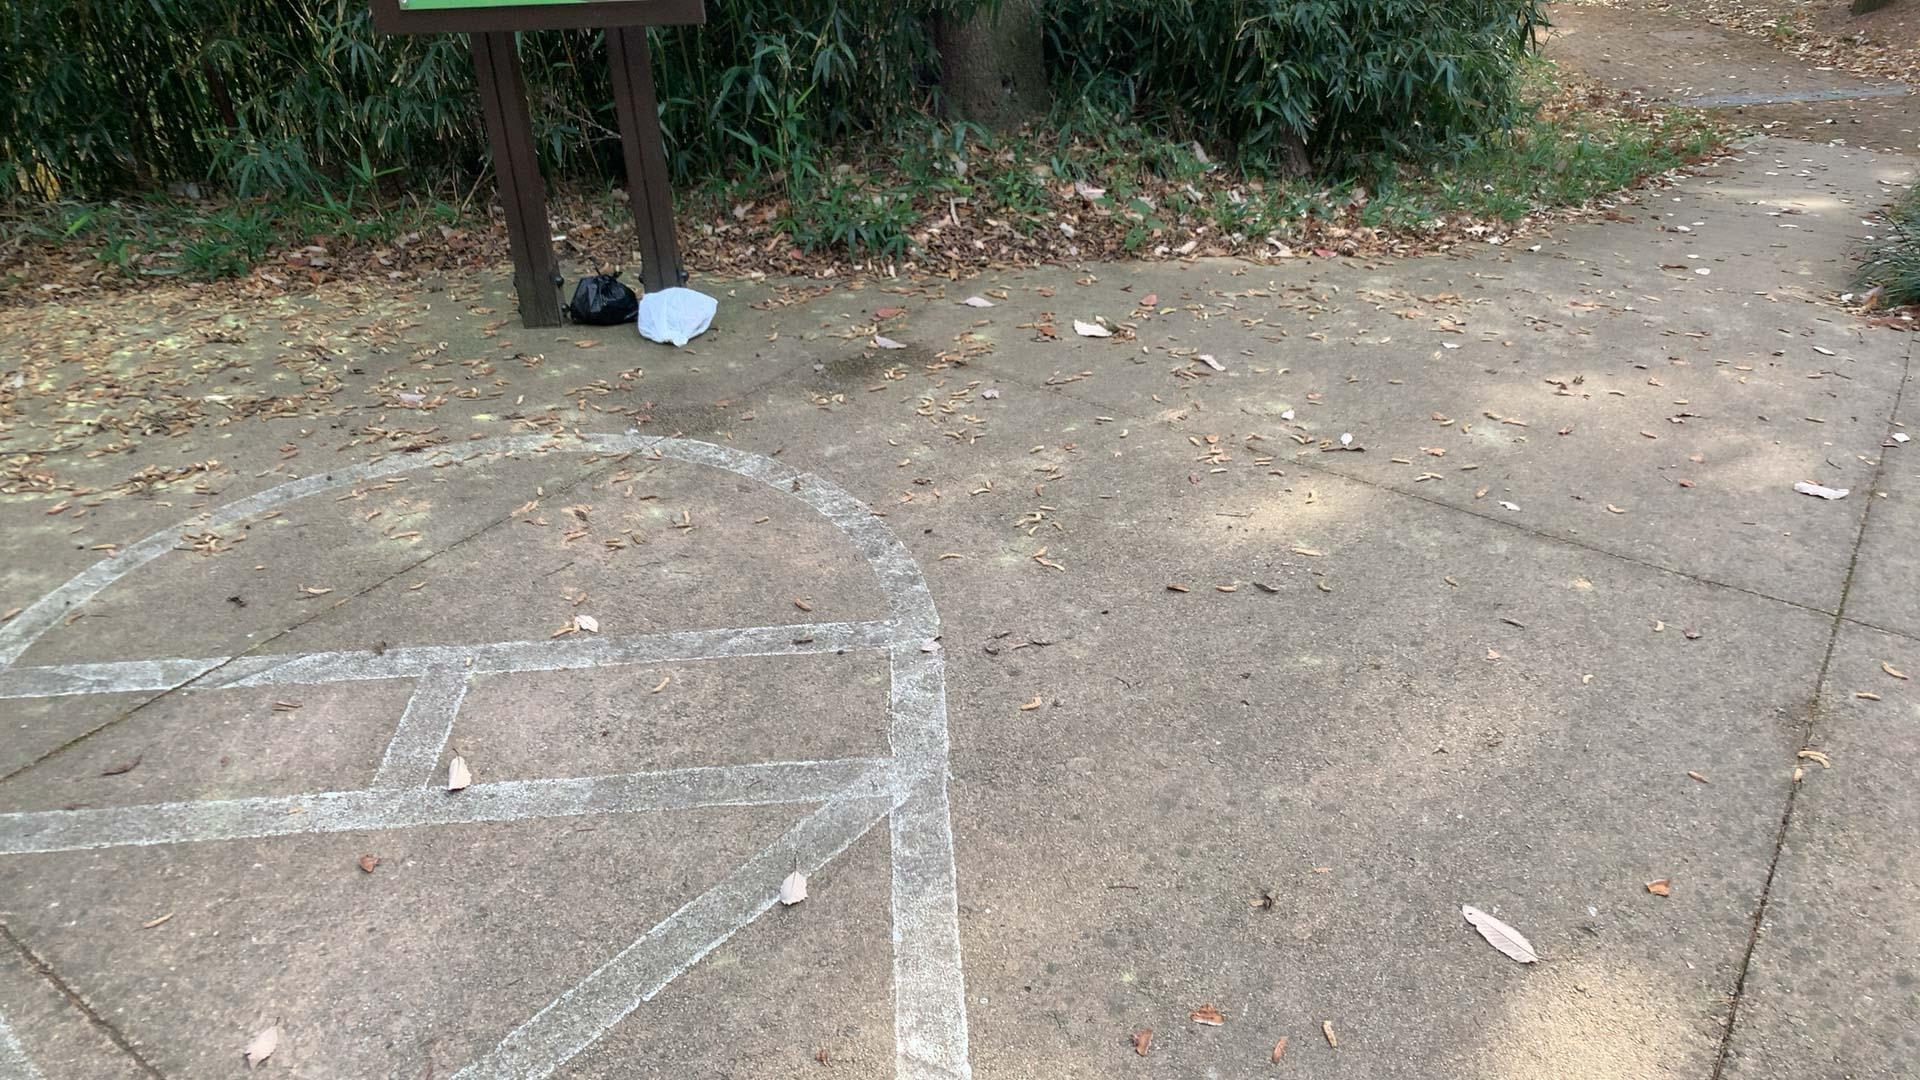black_bag: (567, 257, 640, 328)
white_bag: (630, 284, 721, 351)
